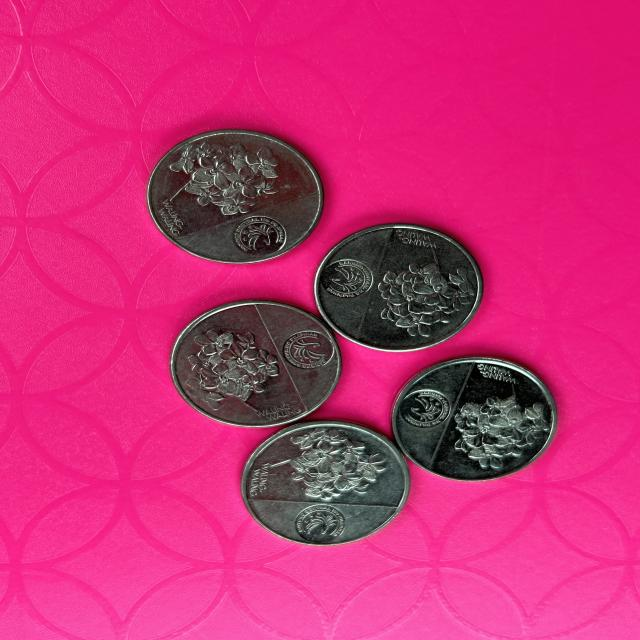1_New_Back: (271, 431, 387, 529), (176, 324, 289, 409), (377, 245, 478, 327), (165, 140, 286, 208), (457, 378, 551, 464)
